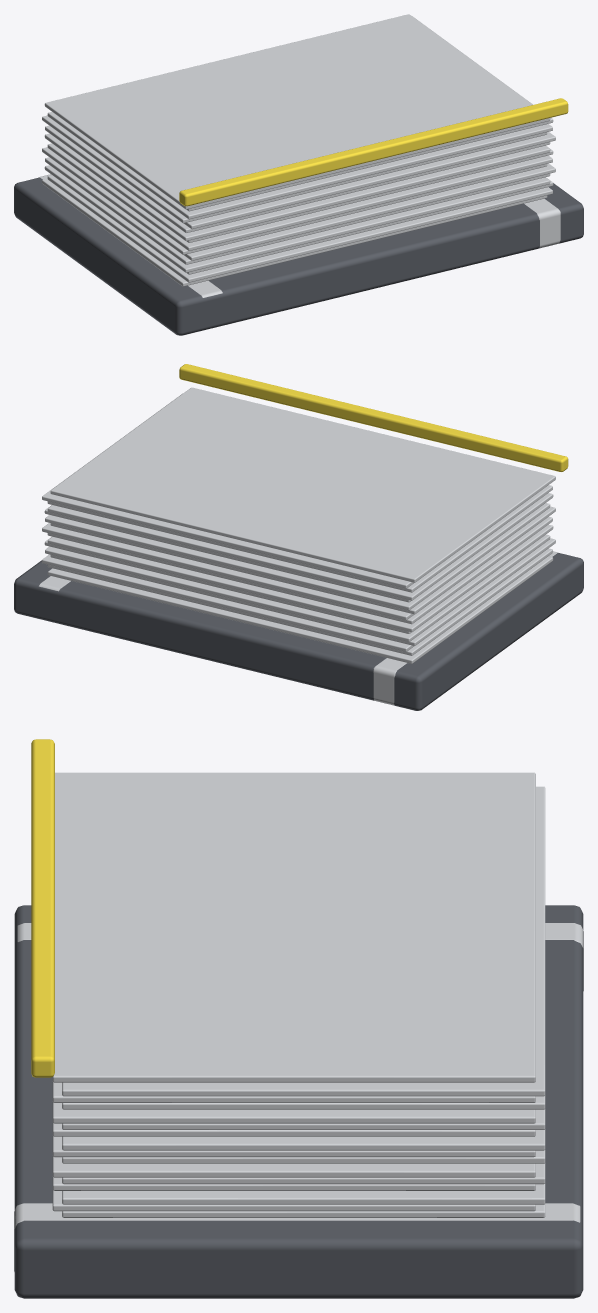
Rendered from blank-stack.glb.
3 renders of one model, top to bottom at view 1: azimuth 30°, elevation 25°; view 2: azimuth 150°, elevation 25°; view 3: azimuth 270°, elevation 25°, orthographic. The views are drawn at different scales.
Visible parts, largest first — view 1: blank-stack; view 2: blank-stack; view 3: blank-stack.
Part boxes in pixels (box(x1,y1,x2,y2)): blank-stack: box(14, 14, 583, 335); blank-stack: box(14, 364, 583, 710); blank-stack: box(14, 739, 583, 1298).
Size of the model in its own units: 1.7 by 0.545 by 1.2.
